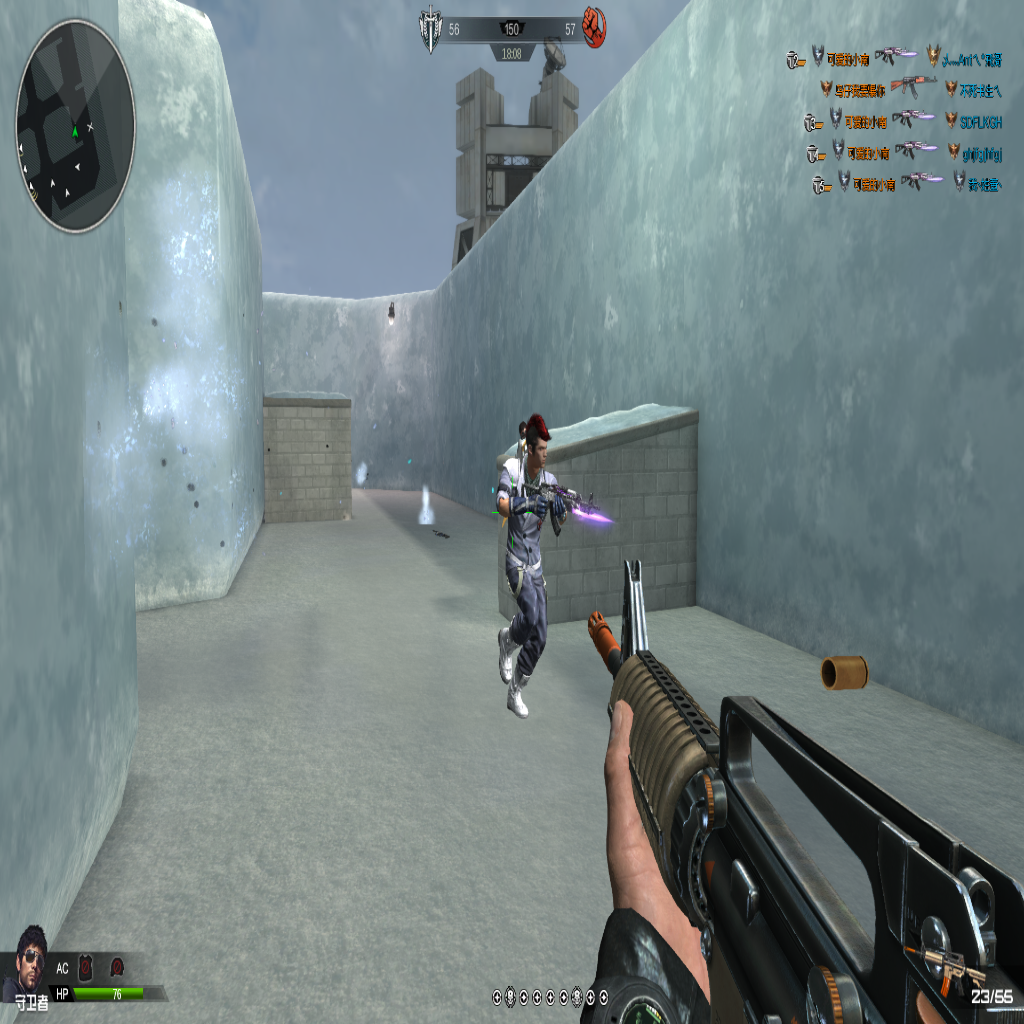tt: (494, 410, 605, 725)
